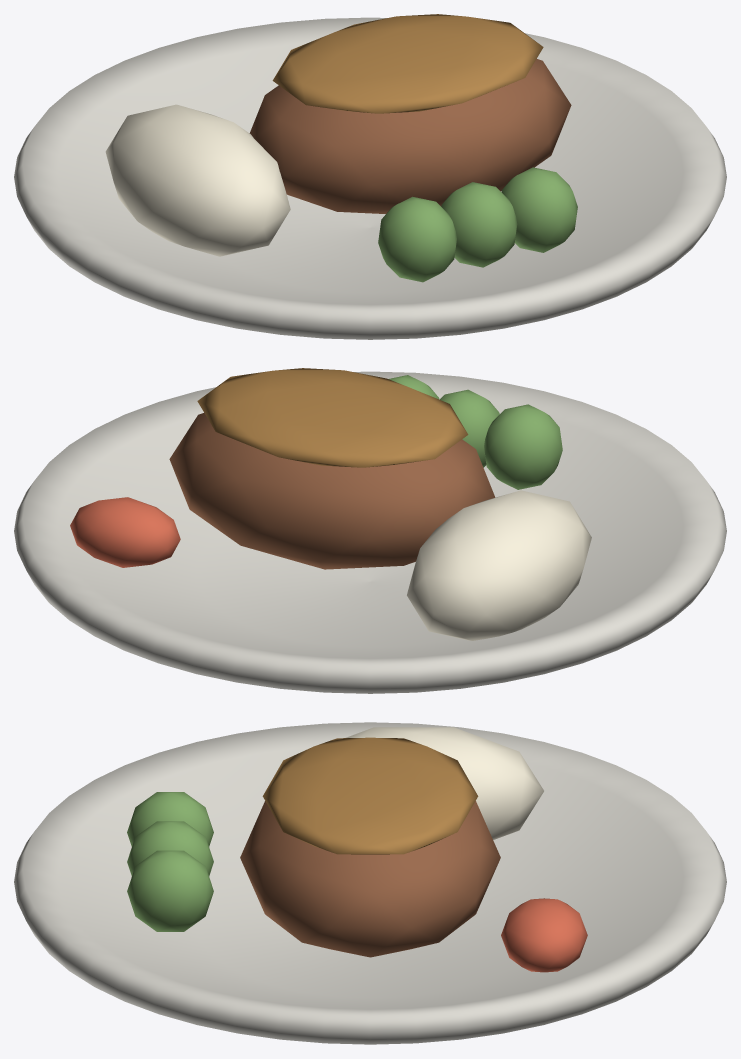
File: FoodHamburg.fbx
The picture shows the model from 3 angles, top to bottom: view 1: azimuth 30°, elevation 25°; view 2: azimuth 150°, elevation 25°; view 3: azimuth 270°, elevation 25°; orthographic projection.
Parts seen in each view (by area): view 1: Ceramic rolled rim plate, Hamburg steak, Rice side, Demi sauce, Broccoli, Broccoli.002, Broccoli.001; view 2: Ceramic rolled rim plate, Hamburg steak, Rice side, Demi sauce, Tomato, Broccoli, Broccoli.001; view 3: Ceramic rolled rim plate, Hamburg steak, Demi sauce, Rice side, Broccoli.002, Tomato, Broccoli.001, Broccoli.
Part boxes in pixels (<box>): Ceramic rolled rim plate: <box>14,17,726,339</box>; Hamburg steak: <box>249,59,571,213</box>; Rice side: <box>105,104,290,256</box>; Demi sauce: <box>272,14,543,113</box>; Broccoli: <box>378,196,456,282</box>; Broccoli.002: <box>501,167,577,252</box>; Broccoli.001: <box>441,182,517,267</box>; Ceramic rolled rim plate: <box>14,371,726,693</box>; Hamburg steak: <box>169,413,495,569</box>; Rice side: <box>407,490,591,640</box>; Demi sauce: <box>197,368,468,467</box>; Tomato: <box>70,497,180,567</box>; Broccoli: <box>484,404,562,489</box>; Broccoli.001: <box>439,389,499,467</box>; Ceramic rolled rim plate: <box>14,722,726,1044</box>; Hamburg steak: <box>240,801,500,957</box>; Demi sauce: <box>262,737,478,854</box>; Rice side: <box>346,727,543,839</box>; Broccoli.002: <box>127,850,213,931</box>; Tomato: <box>501,898,587,972</box>; Broccoli.001: <box>127,821,213,876</box>; Broccoli: <box>127,792,213,846</box>.
Size of the model in its own units: 41 by 12.4 by 41.
